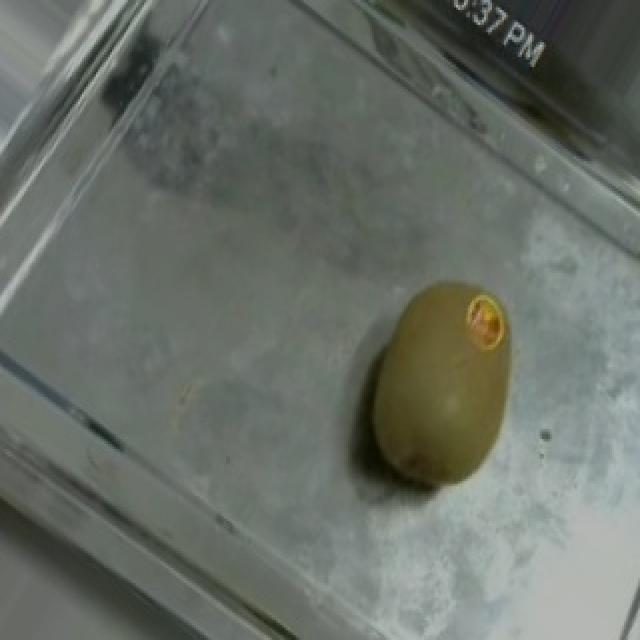Fruit: (324, 258, 558, 521)
